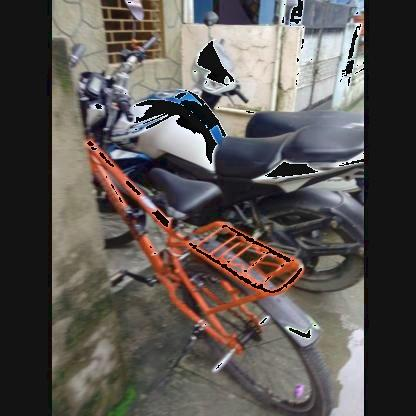Bicycle: (65, 22, 362, 415)
